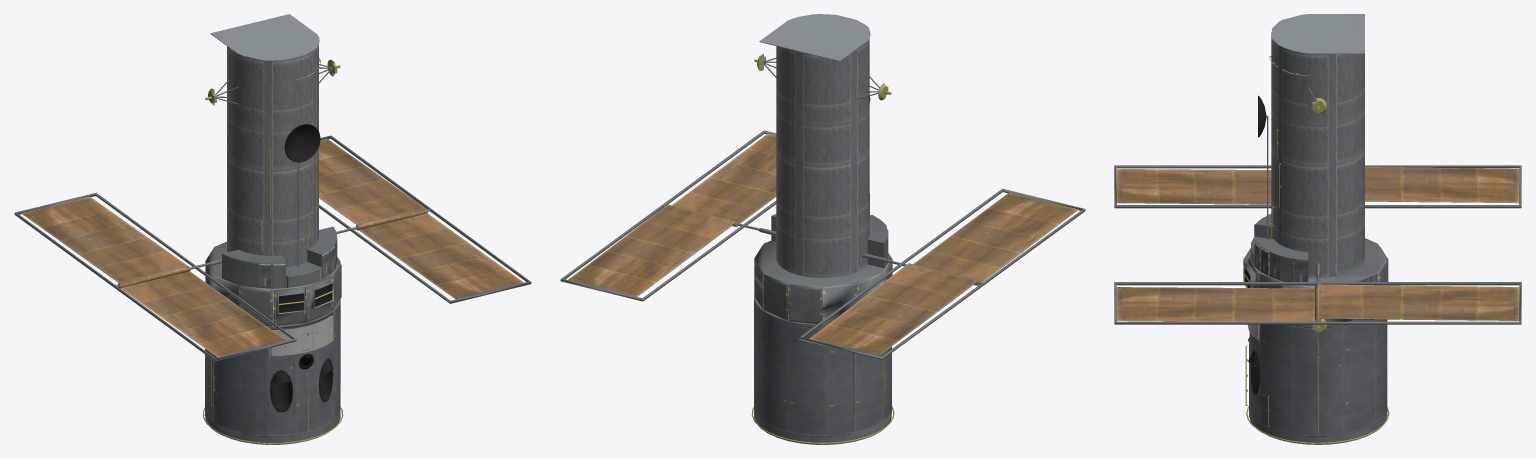
Rendered from hubble.glb.
3 renders of one model, left to right at view 1: azimuth 30°, elevation 25°; view 2: azimuth 150°, elevation 25°; view 3: azimuth 270°, elevation 25°, orthographic.
Parts seen in each view (by area): view 1: hst; view 2: hst; view 3: hst.
Boxes of the visible parts, x1=… form: hst: x1=14, y1=14, x2=531, y2=444; hst: x1=560, y1=14, x2=1085, y2=444; hst: x1=1114, y1=14, x2=1521, y2=444.
Bounding box in the file's own units: 458 × 525 × 501.
Materials: 5 (5 with a texture image).
